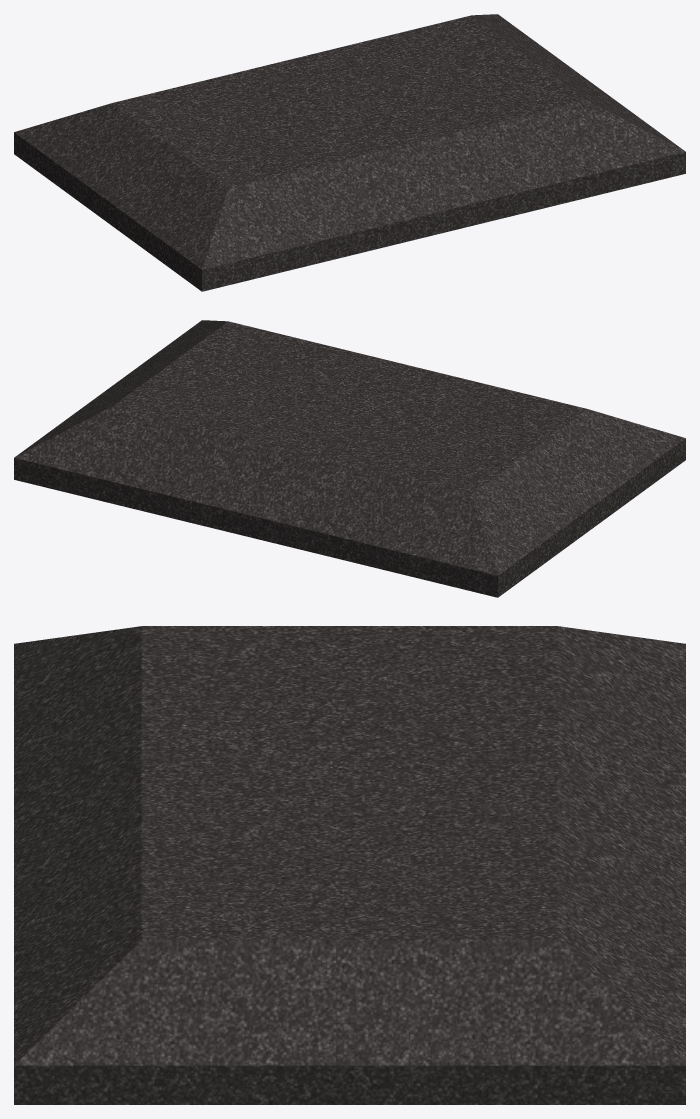
The model's file is tarRoof.FBX.
3 views of the same model, one above another, from view 1: azimuth 30°, elevation 25°; view 2: azimuth 150°, elevation 25°; view 3: azimuth 270°, elevation 25° (orthographic). The views are drawn at different scales.
Parts seen in each view (by area): view 1: Box001; view 2: Box001; view 3: Box001.
Boxes of the visible parts, left/top/right/bottom form: Box001: left=14, top=14, right=685, bottom=291; Box001: left=14, top=320, right=685, bottom=597; Box001: left=14, top=626, right=685, bottom=1104.
Bounding box in the file's own units: 121 × 14.79 × 81.24.
1 material, 1 textured.
